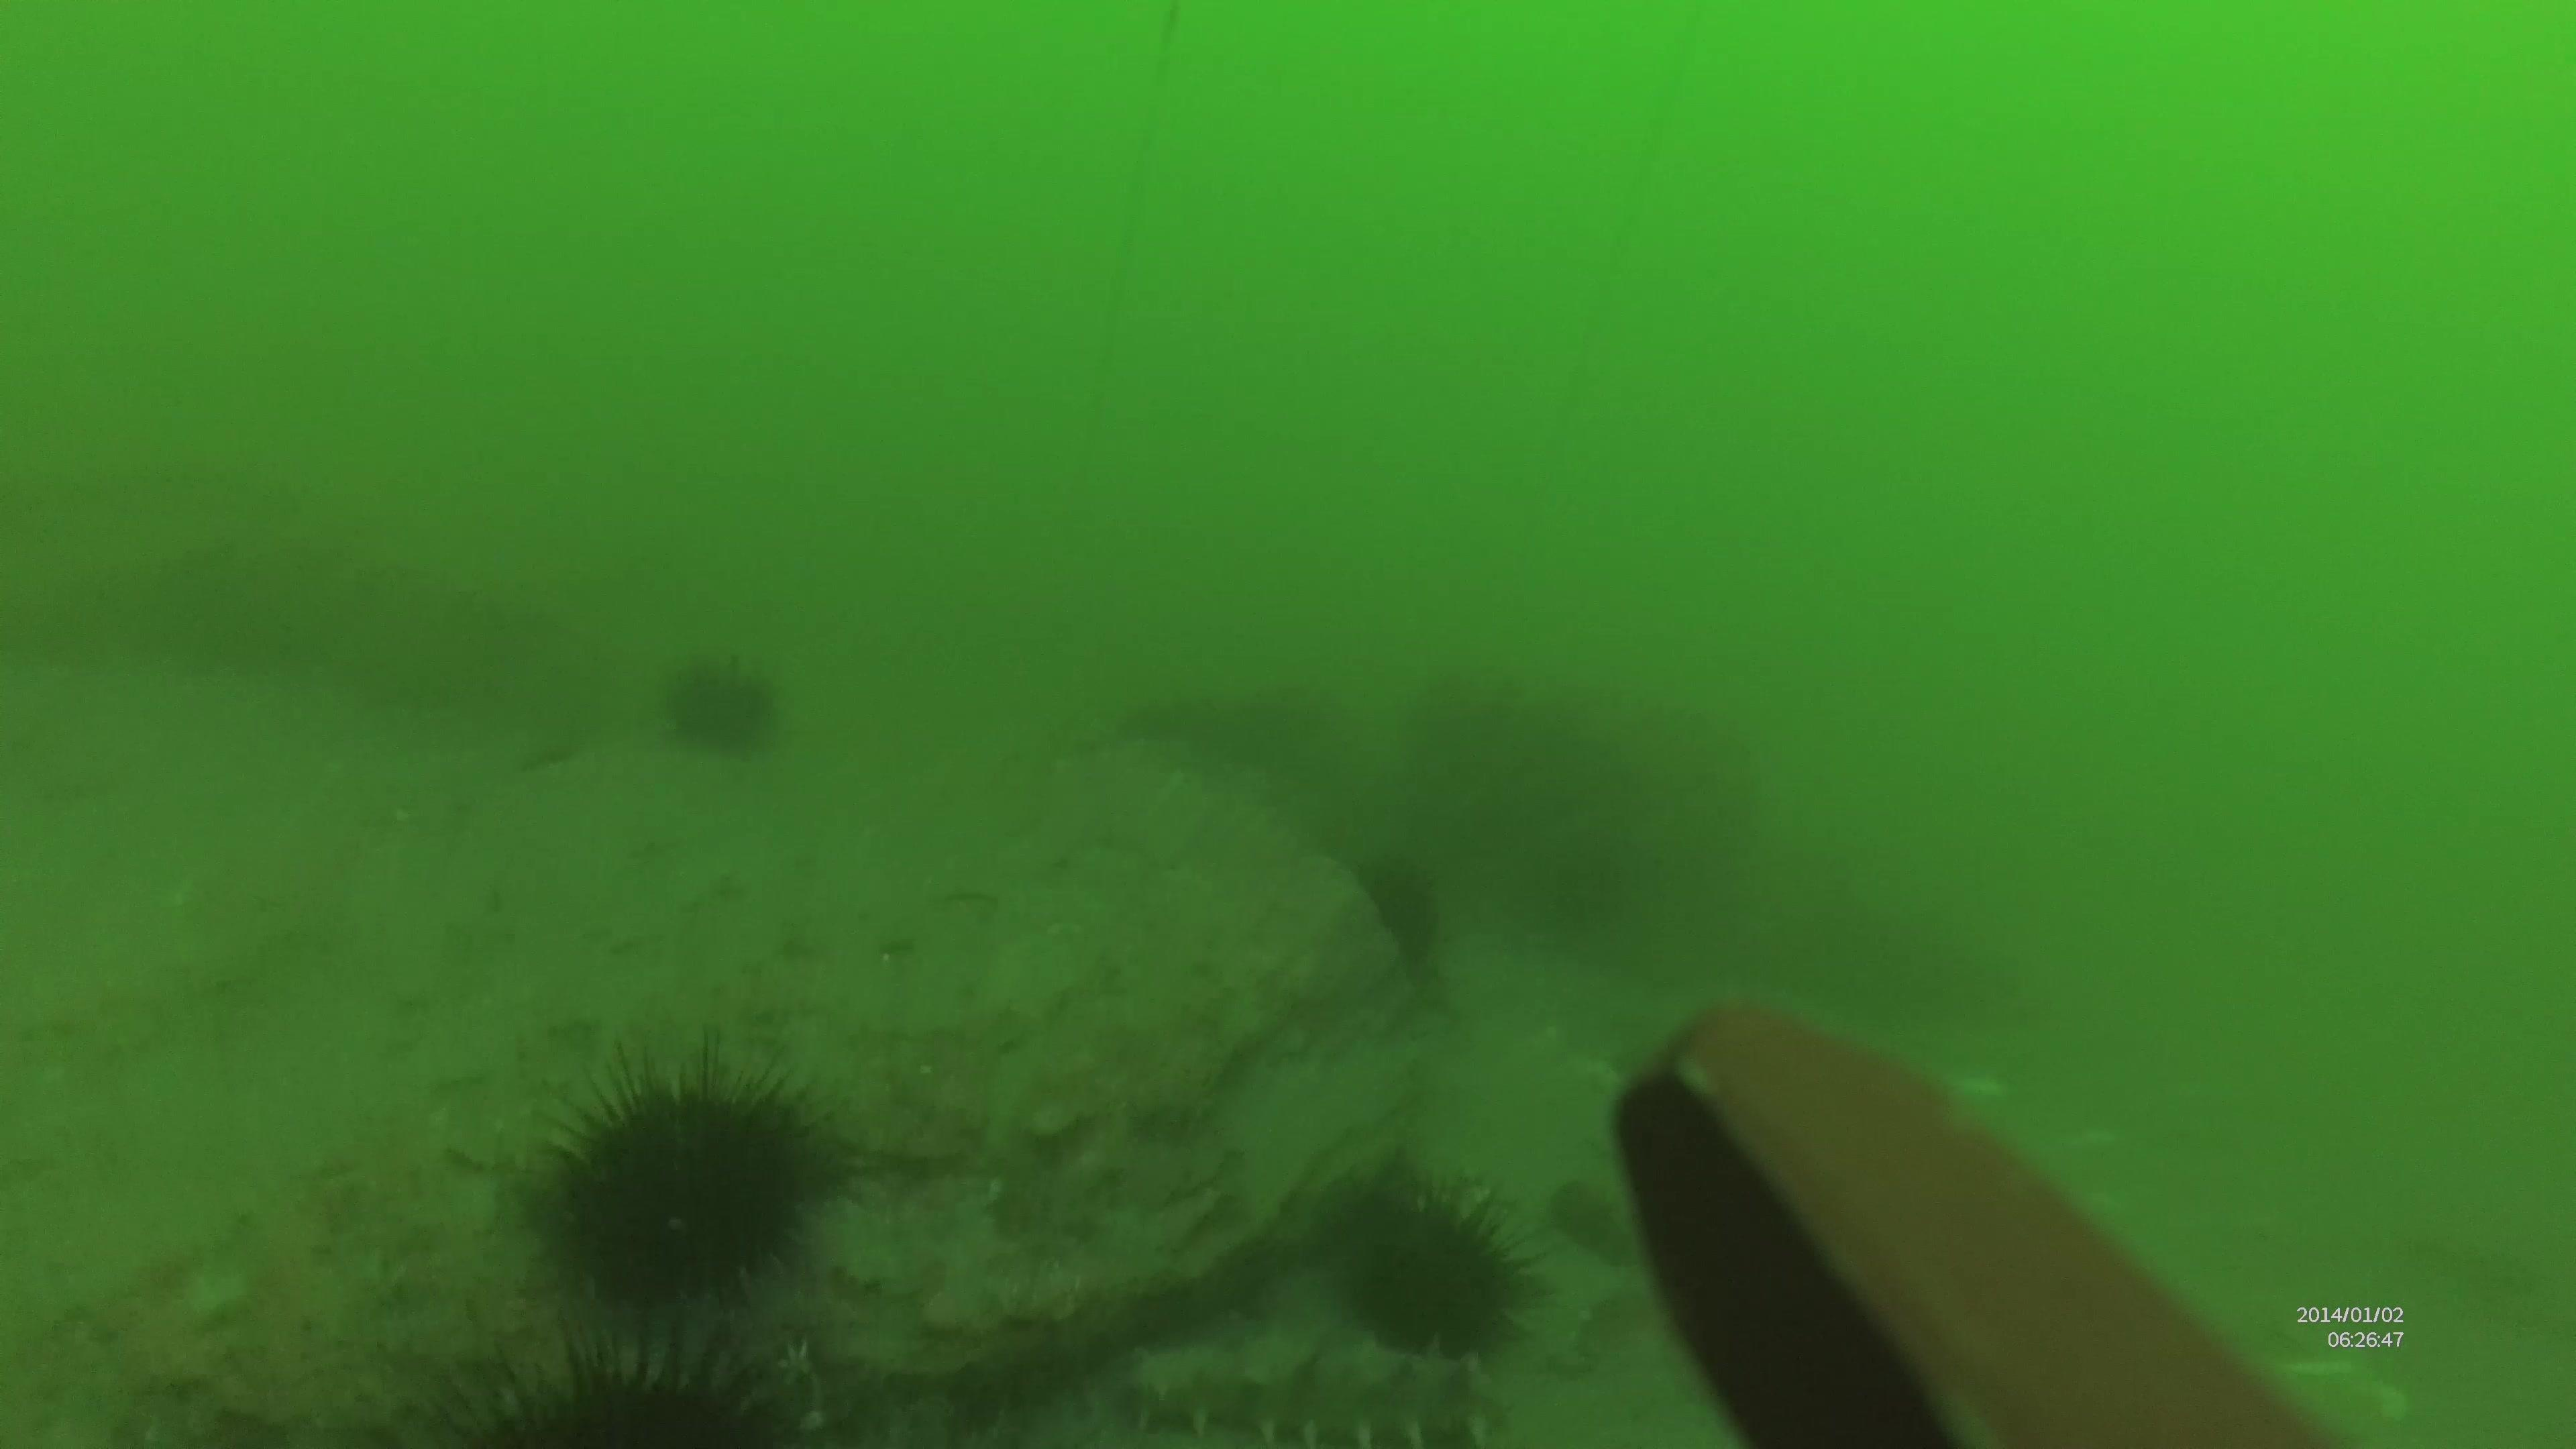echinus: (513, 1039, 816, 1316), (432, 1322, 833, 1449), (1339, 1171, 1553, 1348), (1348, 849, 1453, 975), (665, 658, 791, 761)
holothurian: (1116, 1334, 1527, 1449)
